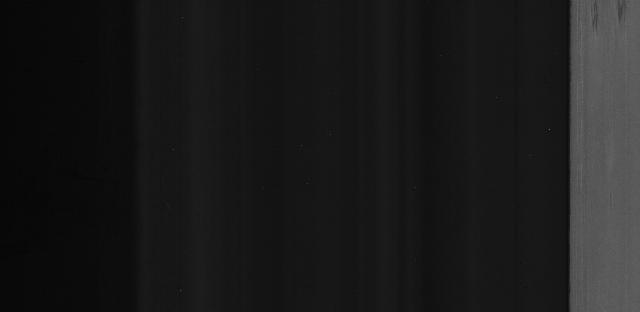silk_spot: (574, 0, 638, 46)
